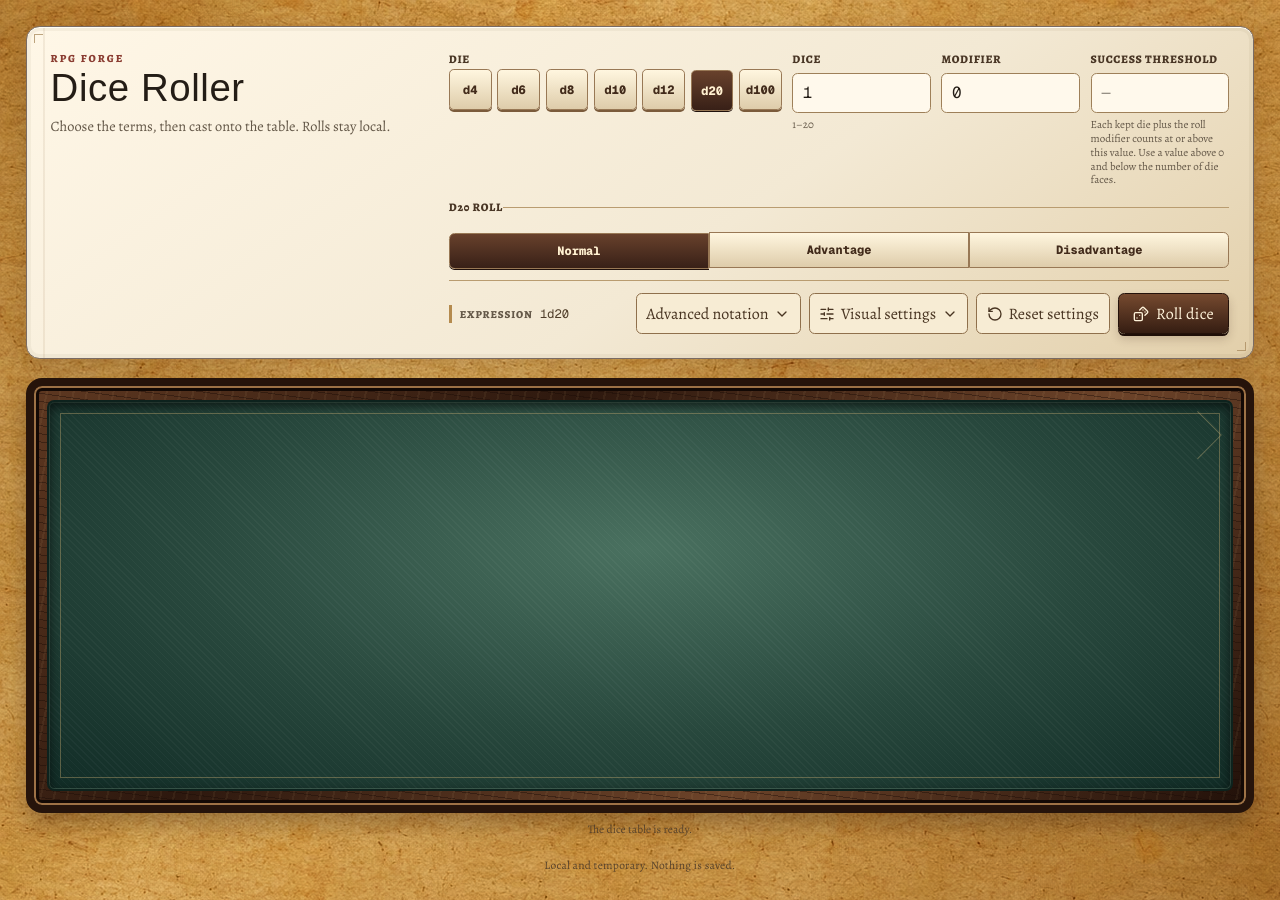
Test: DiceRoller › supports advanced notation and keeps its engine result accessible
The width and height of the screenshot is (1280, 900).
Click the button "Advanced notation" at (718,314), box [636,294,801,334]
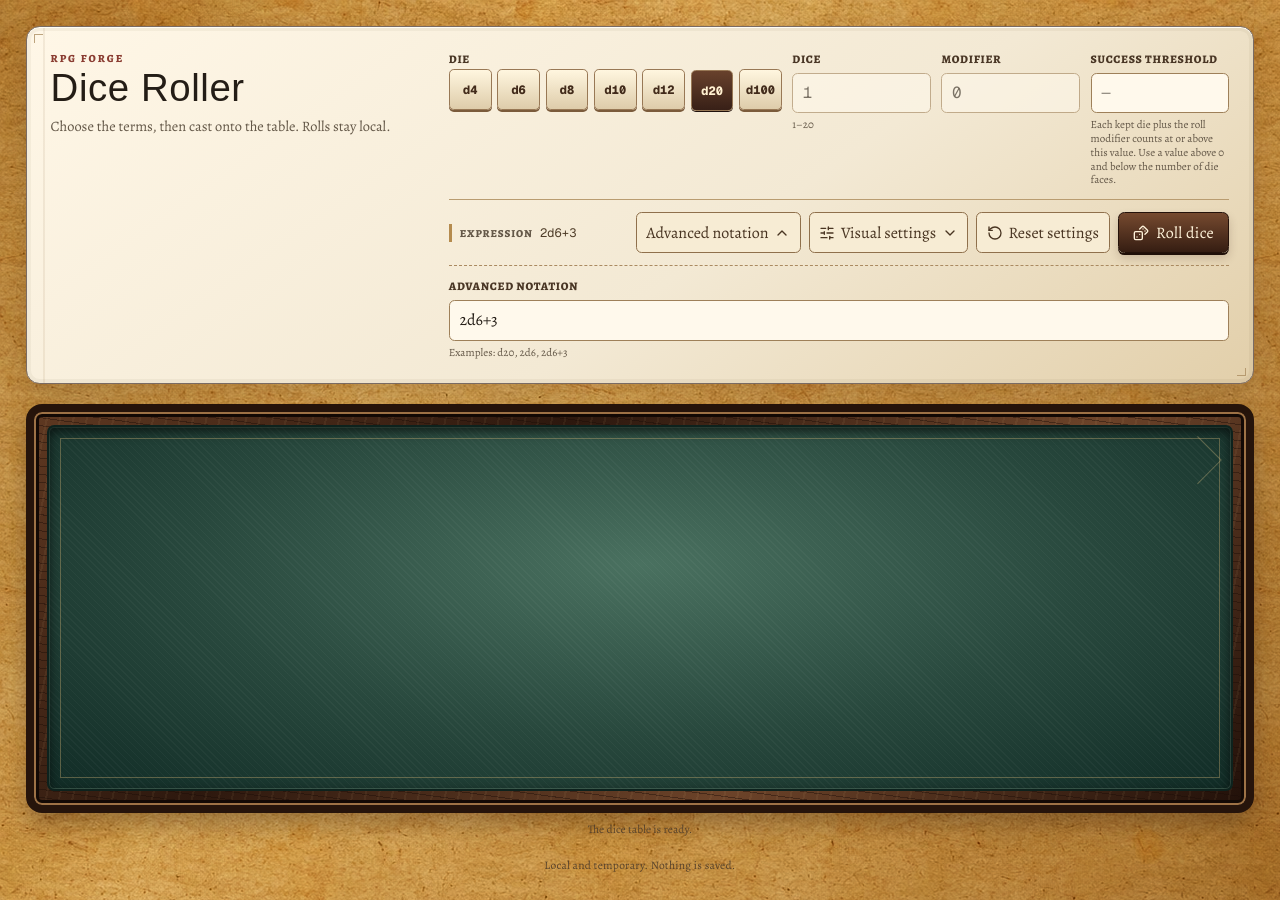
Replace the text in the field labelled "Advanced notation" with "2d6+4" at (839,320), box [449,300,1229,341]
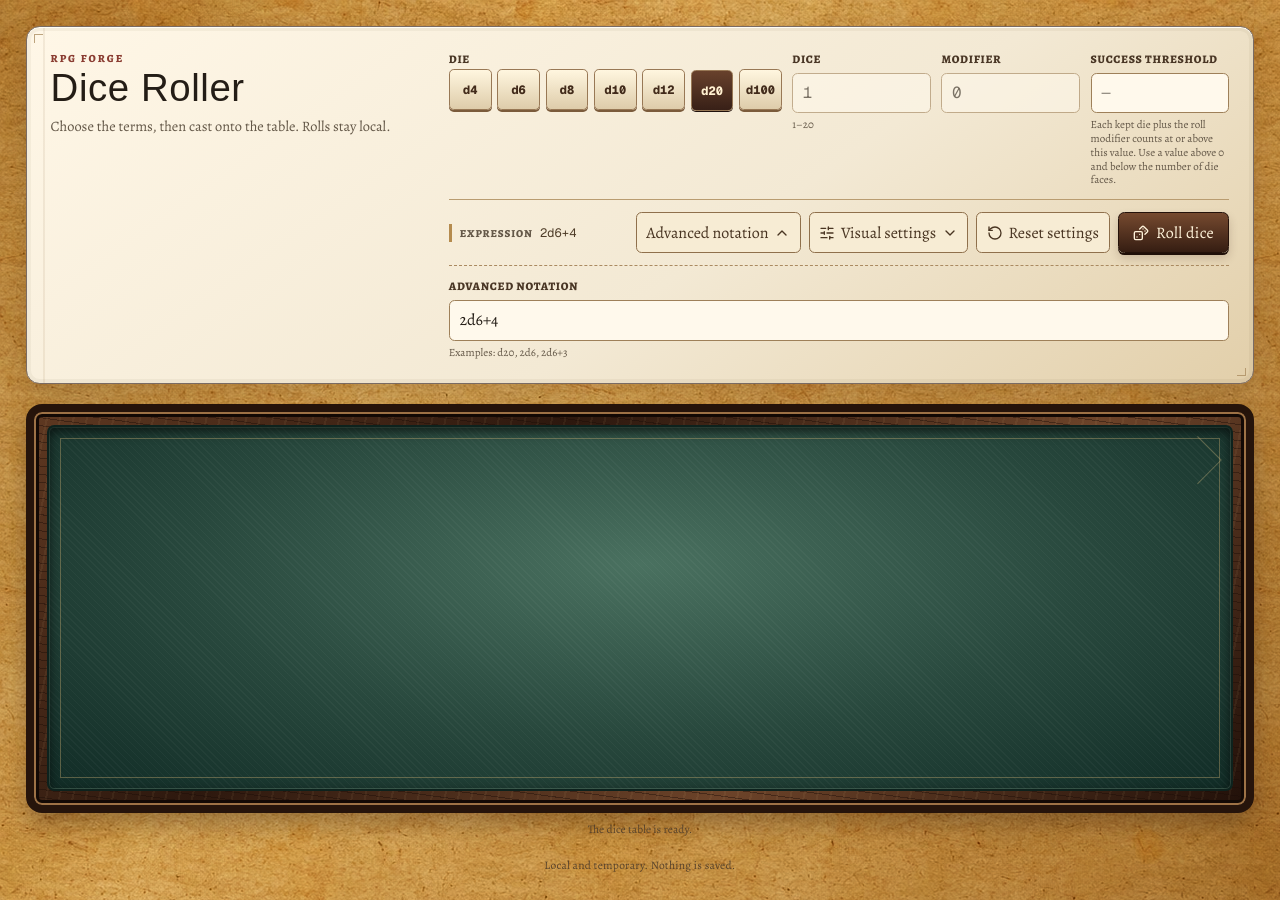
Click the button "Roll dice" at (1173,233), box [1118,212,1229,253]
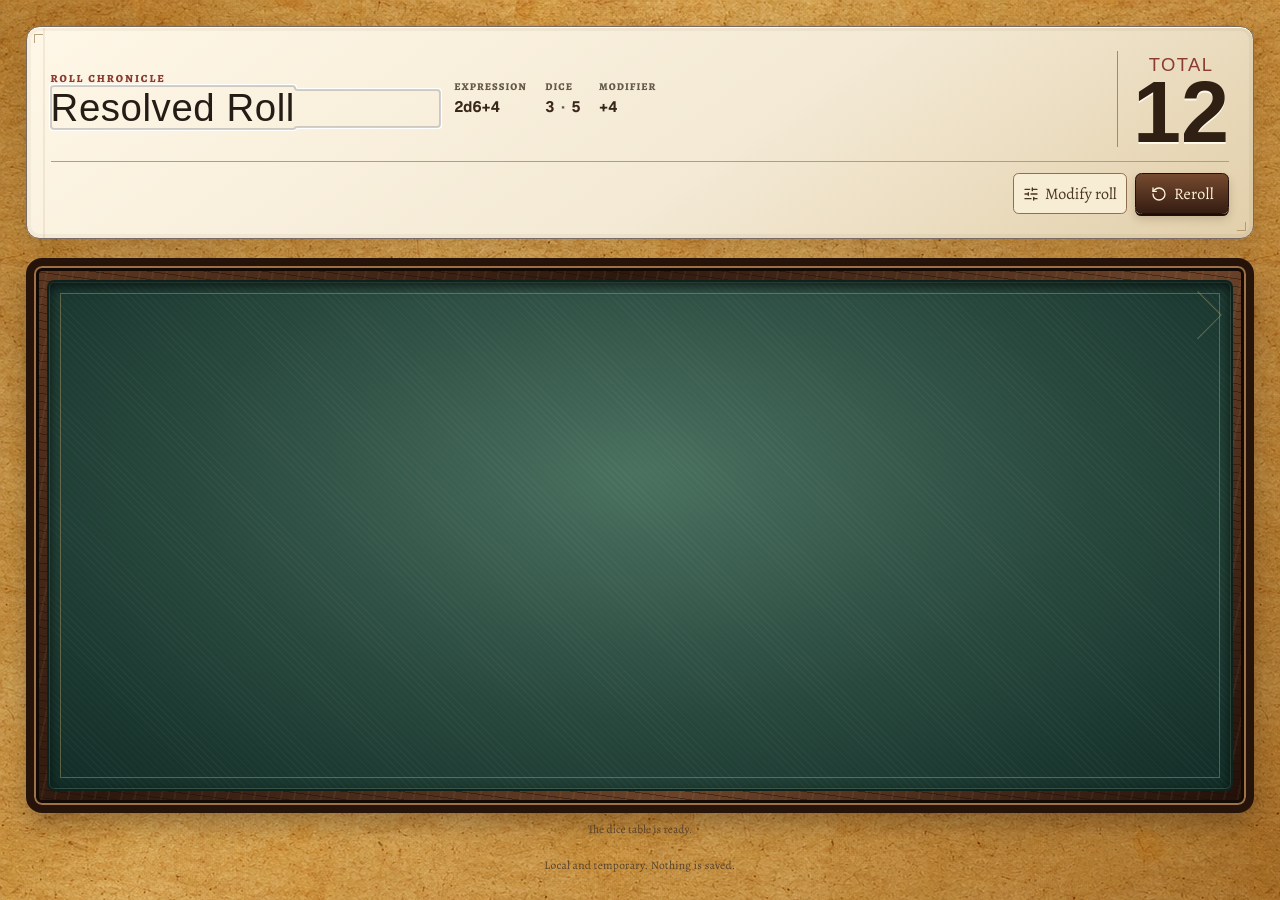
Check: the text "2d6+4" is shown, box [454,97,500,116]
Check: the heading "Resolved Roll" is shown, box [51,86,295,129]
